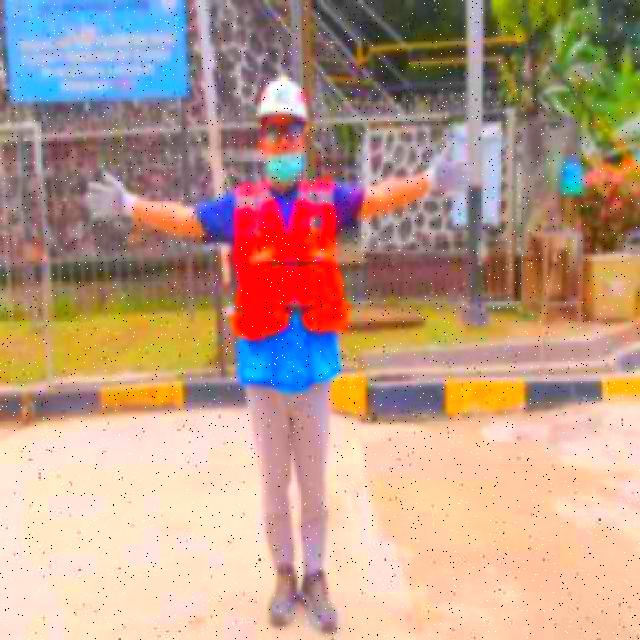Boots: (302, 569, 342, 634), (265, 562, 301, 630)
Gloves: (84, 169, 138, 228), (424, 138, 476, 198)
Helmet: (257, 72, 308, 116)
Mask: (234, 232, 350, 332)
